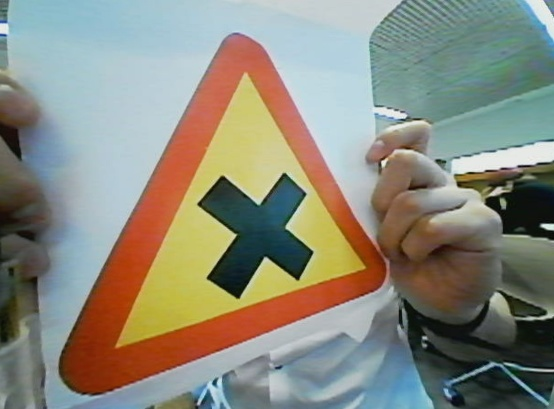junction: (49, 28, 398, 385)
